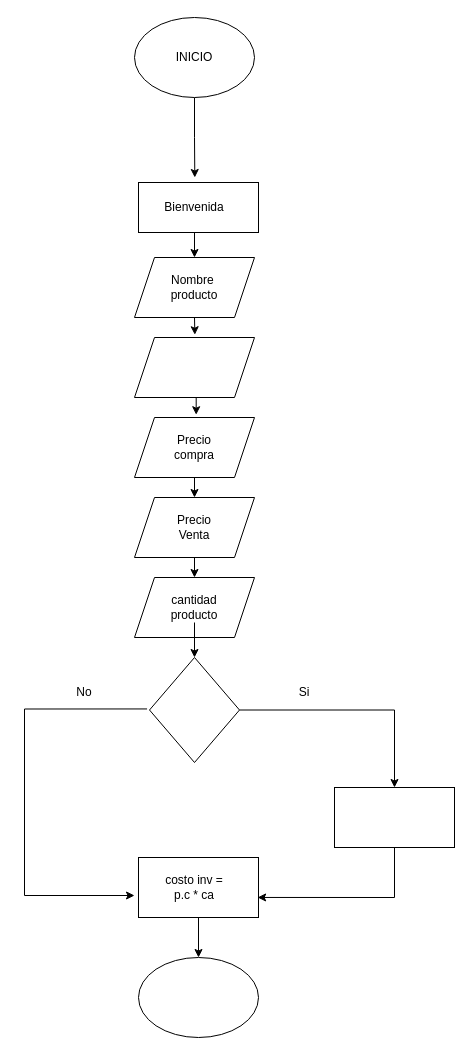
The diagram is 472 pixels wide and 1055 high, and some of its shapes have lost their labels. Here are the shapes that lost their labels. From the top down, the centre of each, then its label:
At (194,367): "Tipo producto".
At (194,709): "Revisar ganancia?".
At (394,817): "G = p.v -p.c".
At (198,997): "FIN".
